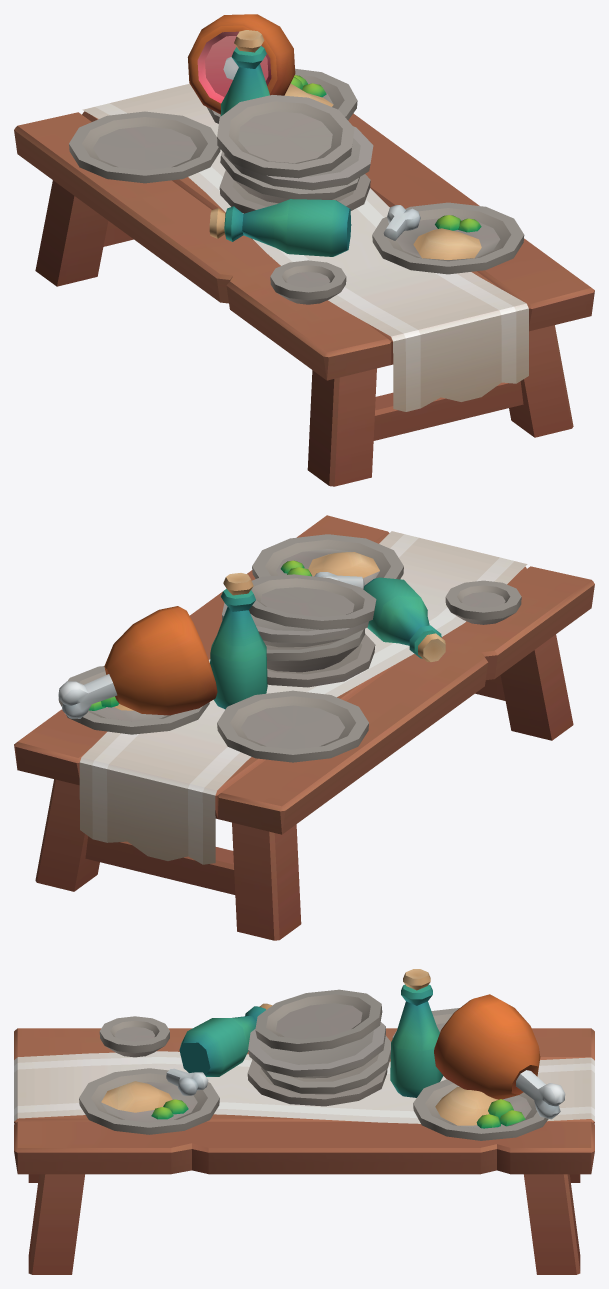
The model's file is kaykit-dungeon-remastered-table-long-tablecloth-decorated-a-gltf.glb.
3 renders of one model, top to bottom at view 1: azimuth 30°, elevation 25°; view 2: azimuth 150°, elevation 25°; view 3: azimuth 270°, elevation 25°, orthographic. The views are drawn at different scales.
Visible parts, largest first — view 1: table_long_tablecloth_decorated_A; view 2: table_long_tablecloth_decorated_A; view 3: table_long_tablecloth_decorated_A.
Boxes of the visible parts, box(x1,y1,x2,y2) form: table_long_tablecloth_decorated_A: box(14, 14, 594, 486); table_long_tablecloth_decorated_A: box(14, 515, 594, 940); table_long_tablecloth_decorated_A: box(14, 969, 594, 1274).
Size of the model in its own units: 2.06 by 1.89 by 4.
1 material, 1 textured.
